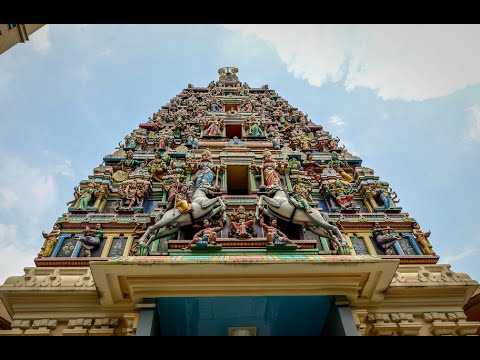Hindu Temple: (34, 54, 438, 319)
